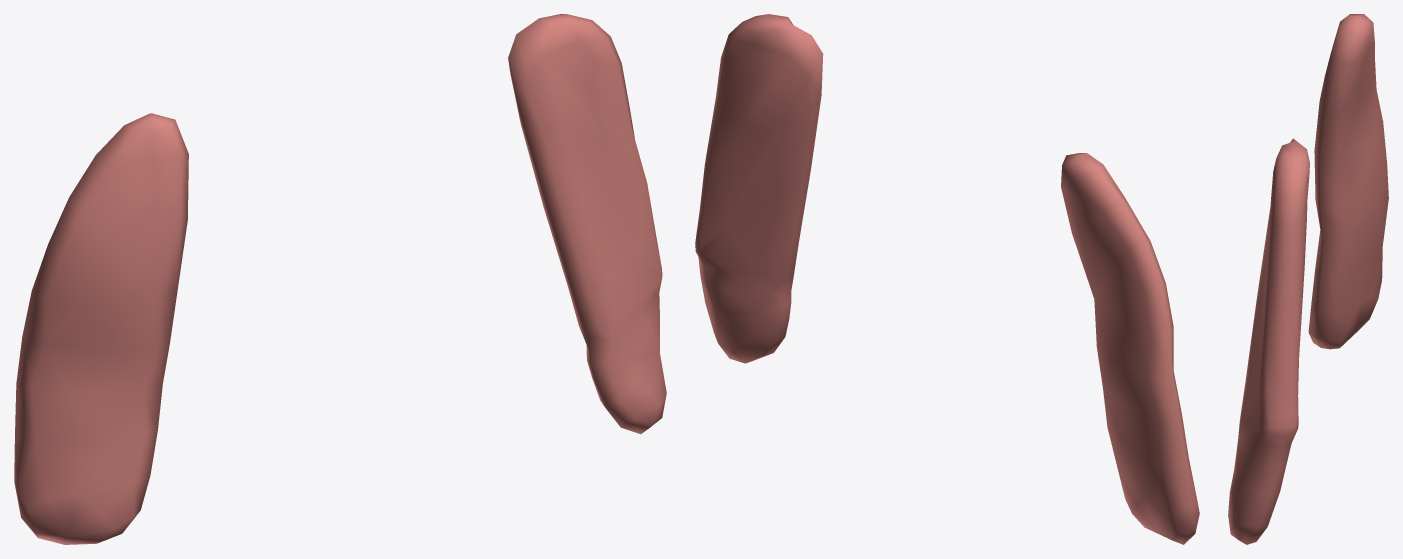
3 renders of one model, left to right at view 1: azimuth 30°, elevation 25°; view 2: azimuth 150°, elevation 25°; view 3: azimuth 270°, elevation 25°, orthographic. The views are drawn at different scales.
Visible parts, largest first — view 1: ZA_f95445f6ef228542; view 2: ZA_f95445f6ef228542; view 3: ZA_f95445f6ef228542.
Part boxes in pixels (x1,y1,x2,y2): ZA_f95445f6ef228542: (14, 14, 666, 544); ZA_f95445f6ef228542: (695, 14, 1199, 544); ZA_f95445f6ef228542: (1228, 14, 1388, 544).
Bounding box in the file's own units: 0.00788 × 0.00554 × 0.00206.
